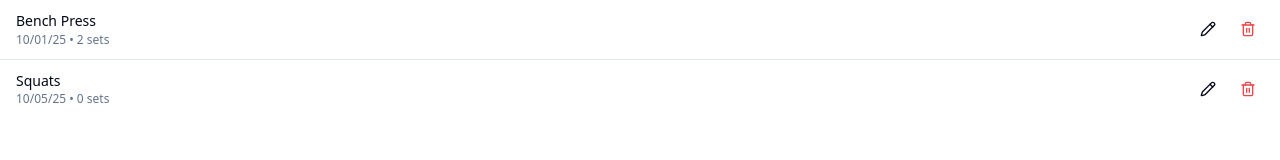
ExerciseManager › edit exercise › enters edit mode when edit button clicked
Click the 1st button named "Edit" at [1208, 29], box [1192,13,1224,45]
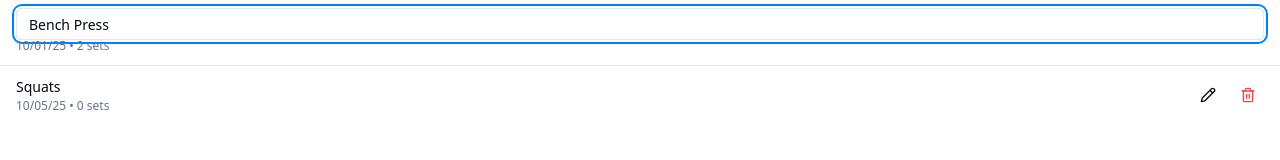
Expected: the field showing "Bench Press" is shown, [16,8,1264,40]
